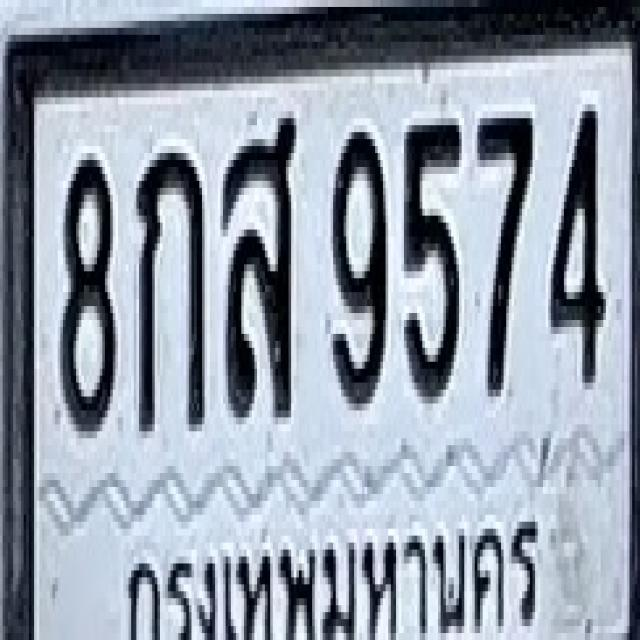4: (548, 104, 603, 383)
5: (403, 115, 460, 400)
7: (478, 111, 532, 396)
8: (59, 153, 114, 431)
9: (330, 125, 386, 404)
A01: (135, 146, 203, 431)
A40: (222, 111, 295, 418)
BKK: (117, 484, 551, 640)
